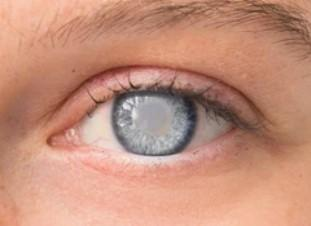eye: (112, 92, 198, 155)
